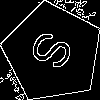S: (27, 27, 84, 78)
